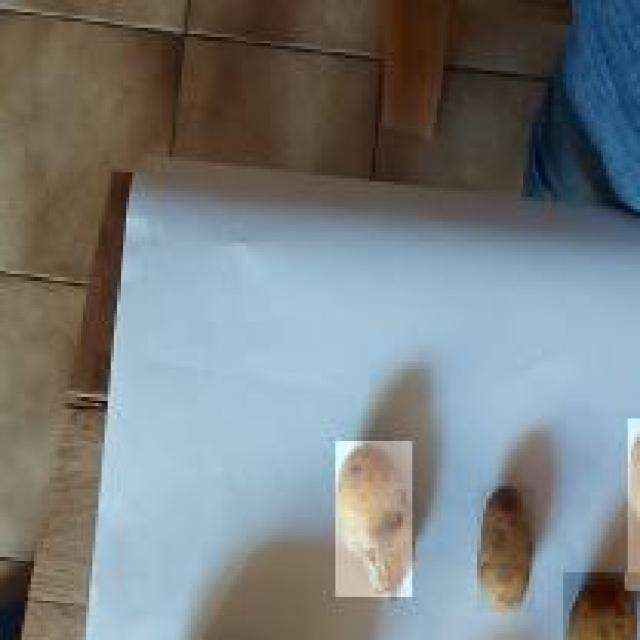potato: (332, 440, 412, 600), (474, 486, 535, 614), (560, 572, 640, 640)
